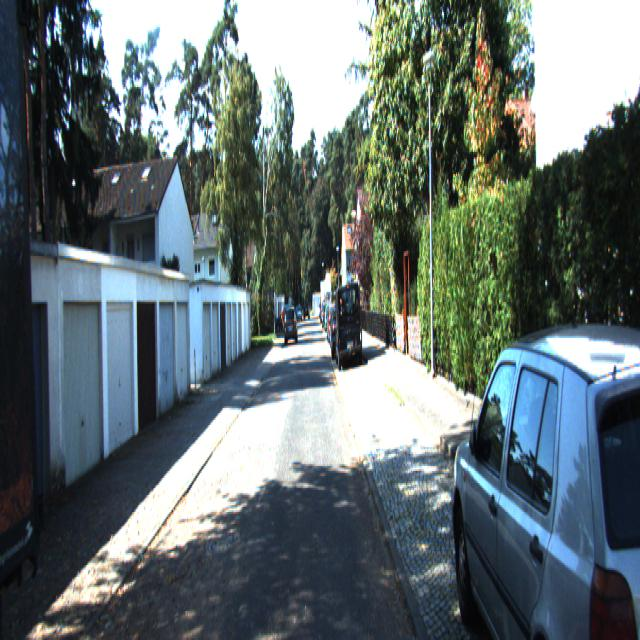Car: (444, 309, 640, 638), (334, 277, 362, 366), (284, 306, 298, 344)
